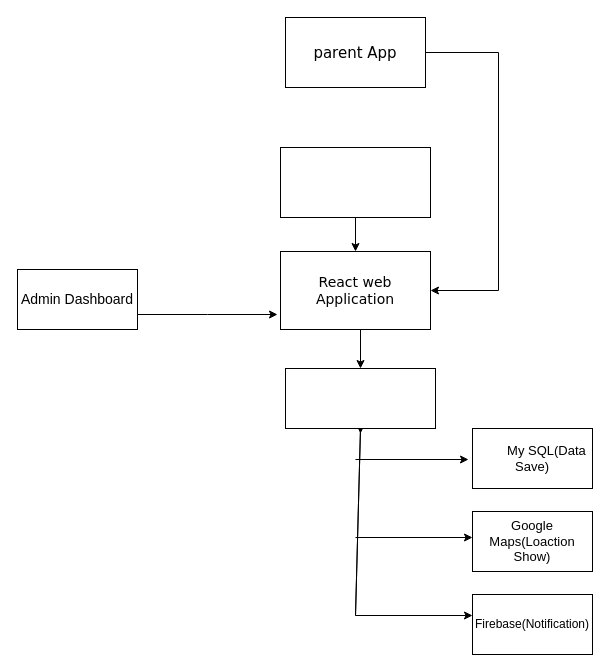
Image size: 610x672. Some labels were removed from this diagram. Each missing label, with the box of its shape:
Driver App: (280, 146, 430, 218)
Spring Boot Backend API: (284, 368, 436, 428)
